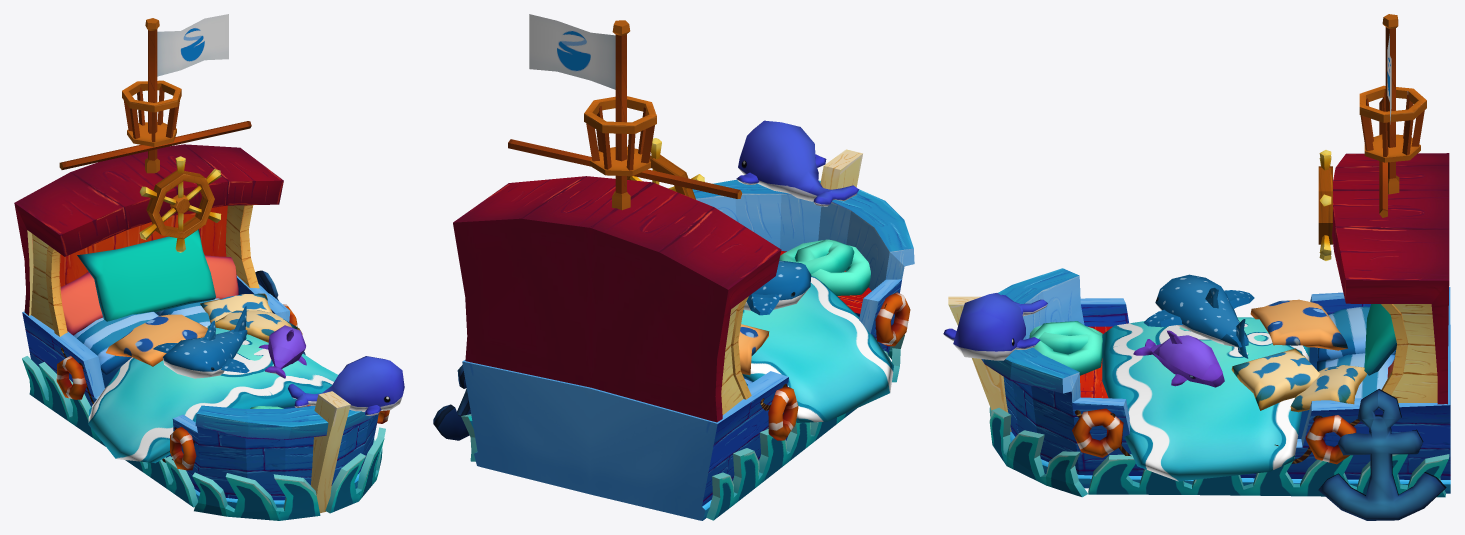
Rendered from bedTier1Lv10.fbx.
3 views of the same model, side by side, from view 1: azimuth 30°, elevation 25°; view 2: azimuth 150°, elevation 25°; view 3: azimuth 270°, elevation 25° (orthographic). The views are drawn at different scales.
Visible parts, largest first — view 1: polySurface15, polySurface25, polySurface72, polySurface90, polySurface33 (×2), polySurface32, polySurface80, pPlane98, polySurface16, polySurface94, pCube237, polySurface96 (+15 smaller); view 2: polySurface15, polySurface25, polySurface72, polySurface80, pPlane98, polySurface32, pCylinder96, polySurface13, pCylinder98, polySurface96, pCube237, pTorus1 (+9 smaller); view 3: polySurface25, polySurface72, polySurface15, polySurface12, polySurface32, polySurface14, polySurface80, pCube237, polySurface33, polySurface94, polySurface99, pCube247 (+14 smaller).
Part boxes in pixels (x1=…): polySurface15: x1=14, y1=144, x2=283, y2=315; polySurface25: x1=22, y1=275, x2=378, y2=508; polySurface72: x1=88, y1=325, x2=337, y2=463; polySurface90: x1=77, y1=229, x2=215, y2=321; polySurface33 (×2): x1=192, y1=427, x2=385, y2=520; polySurface32: x1=22, y1=356, x2=197, y2=507; polySurface80: x1=288, y1=356, x2=404, y2=411; pPlane98: x1=157, y1=14, x2=228, y2=76; polySurface16: x1=310, y1=391, x2=350, y2=513; polySurface94: x1=106, y1=314, x2=207, y2=366; pCube237: x1=163, y1=329, x2=247, y2=378; polySurface96: x1=31, y1=233, x2=67, y2=336; polySurface15: x1=453, y1=176, x2=781, y2=422; polySurface25: x1=462, y1=179, x2=914, y2=520; polySurface72: x1=741, y1=276, x2=893, y2=422; polySurface80: x1=738, y1=120, x2=859, y2=206; pPlane98: x1=529, y1=14, x2=615, y2=89; polySurface32: x1=706, y1=350, x2=889, y2=520; pCylinder96: x1=612, y1=20, x2=630, y2=210; polySurface13: x1=794, y1=240, x2=870, y2=295; pCylinder98: x1=508, y1=139, x2=742, y2=198; polySurface96: x1=721, y1=296, x2=751, y2=414; pCube237: x1=743, y1=260, x2=811, y2=310; pTorus1: x1=584, y1=96, x2=656, y2=133; polySurface25: x1=981, y1=268, x2=1450, y2=493; polySurface72: x1=1102, y1=317, x2=1309, y2=481; polySurface15: x1=1332, y1=153, x2=1449, y2=404; polySurface12: x1=1318, y1=389, x2=1446, y2=520; polySurface32: x1=1088, y1=454, x2=1449, y2=497; polySurface14: x1=1381, y1=304, x2=1437, y2=402; polySurface80: x1=953, y1=293, x2=1047, y2=360; pCube237: x1=1155, y1=274, x2=1248, y2=347; polySurface33: x1=989, y1=407, x2=1087, y2=497; polySurface94: x1=1250, y1=299, x2=1347, y2=350; polySurface99: x1=1231, y1=348, x2=1319, y2=410; pCube247: x1=1133, y1=335, x2=1224, y2=387.
Size of the model in its own units: 8.58 by 11.47 by 12.21.
